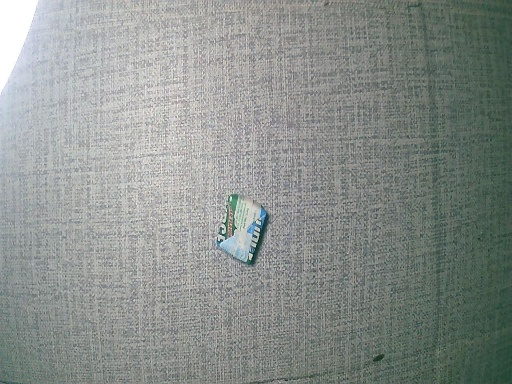plastic: (211, 193, 266, 266)
